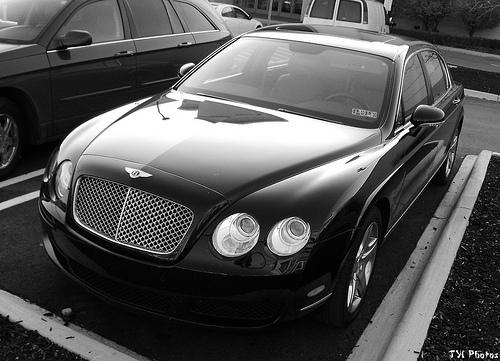car: (37, 22, 472, 337)
